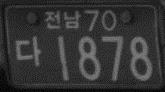0: (100, 9, 118, 34)
1: (55, 33, 70, 81)
7: (99, 34, 123, 81), (83, 8, 100, 31)
8: (128, 35, 153, 81), (77, 35, 102, 80)
다: (15, 34, 42, 65)
전남_O: (43, 9, 82, 30)
